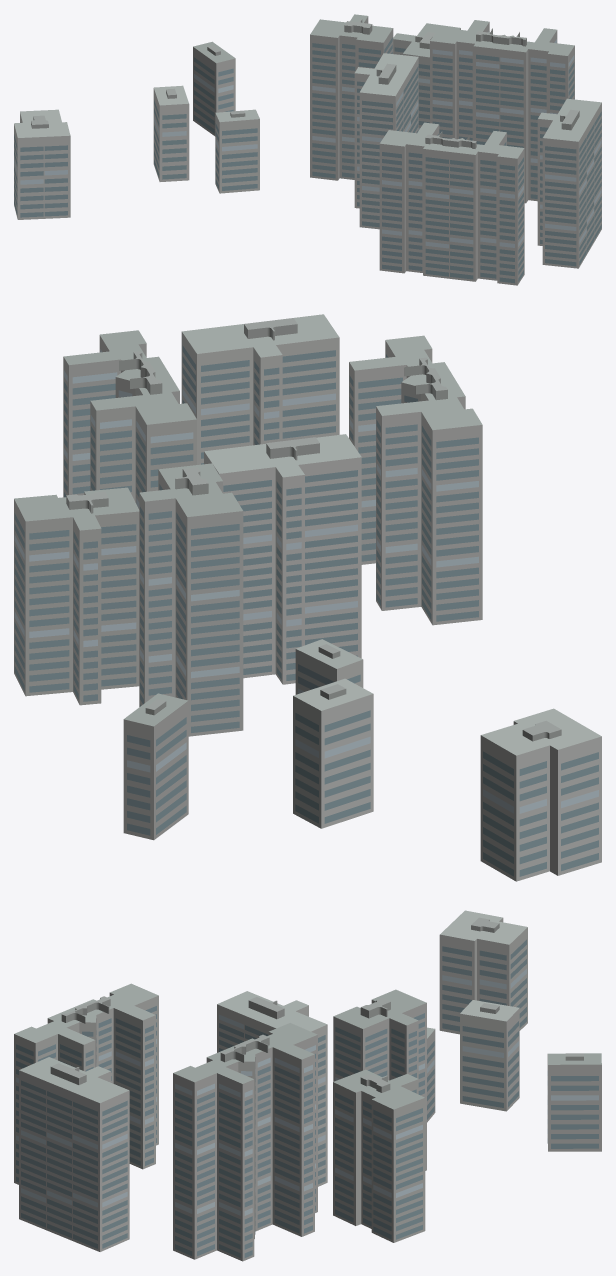
The model's file is apt-a13290404.glb.
3 renders of one model, top to bottom at view 1: azimuth 30°, elevation 25°; view 2: azimuth 150°, elevation 25°; view 3: azimuth 270°, elevation 25°, orthographic. The views are drawn at different scales.
Visible parts, largest first — view 1: apt-a13290404; view 2: apt-a13290404; view 3: apt-a13290404.
Part boxes in pixels (x1,y1,x2,y2): apt-a13290404: (14,14,601,285); apt-a13290404: (14,314,601,881); apt-a13290404: (14,910,601,1261).
Size of the model in its own units: 168 by 57 by 164.
